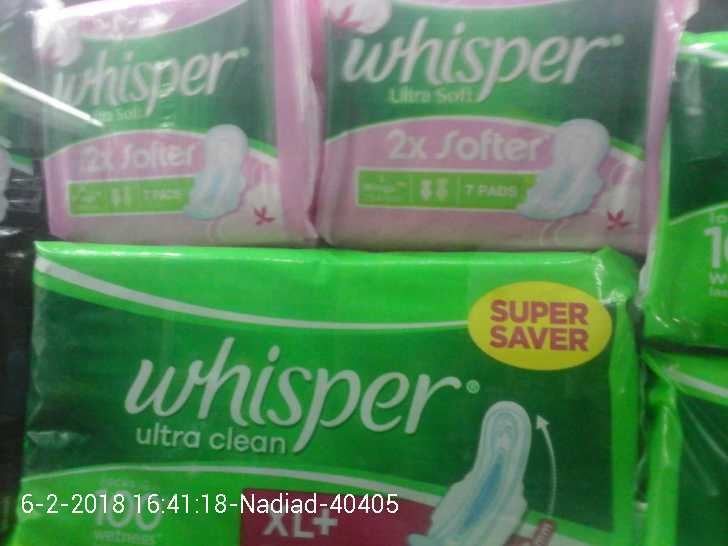whisper: (18, 239, 638, 546), (310, 1, 666, 252), (33, 10, 317, 244)
